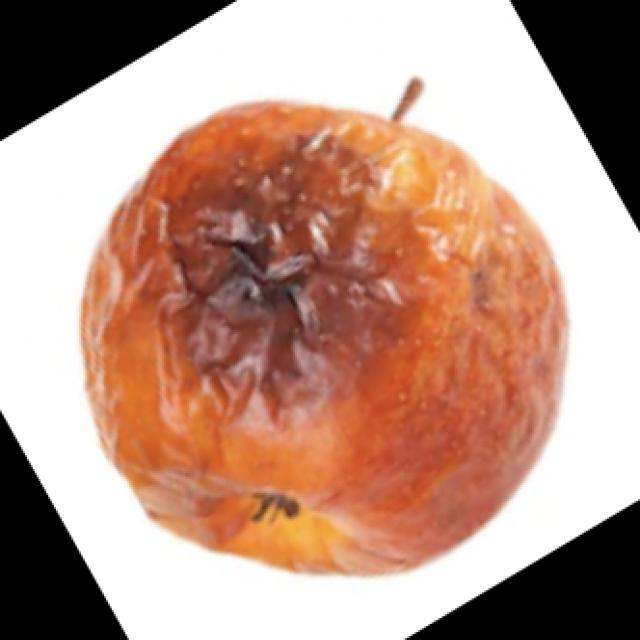Rotten: (69, 90, 584, 583)
